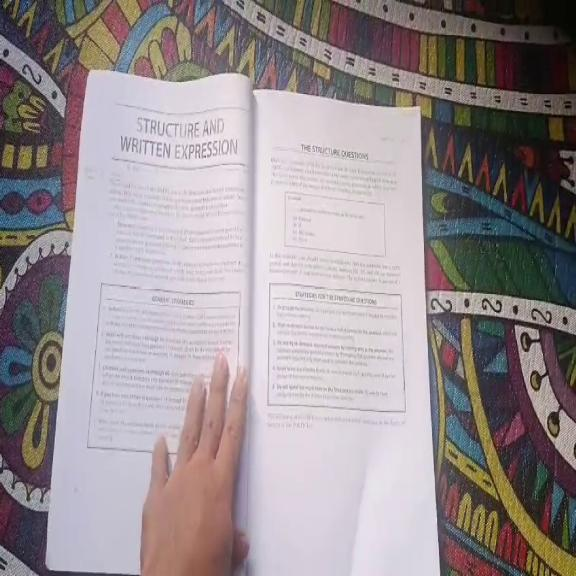Kertas: (47, 73, 251, 573), (248, 92, 439, 575), (250, 84, 437, 575)
